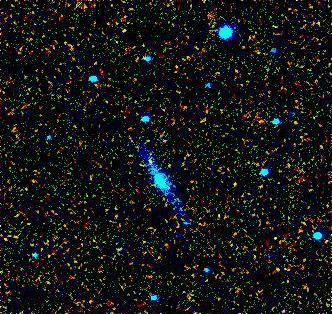star: (138, 148, 168, 178)
